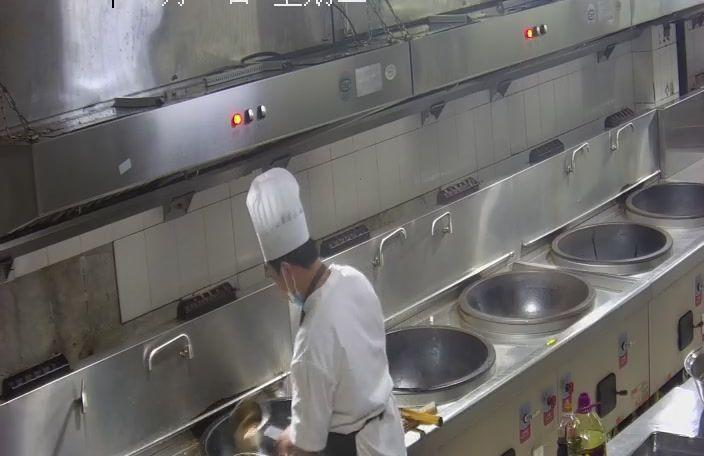mask: (267, 253, 313, 303)
